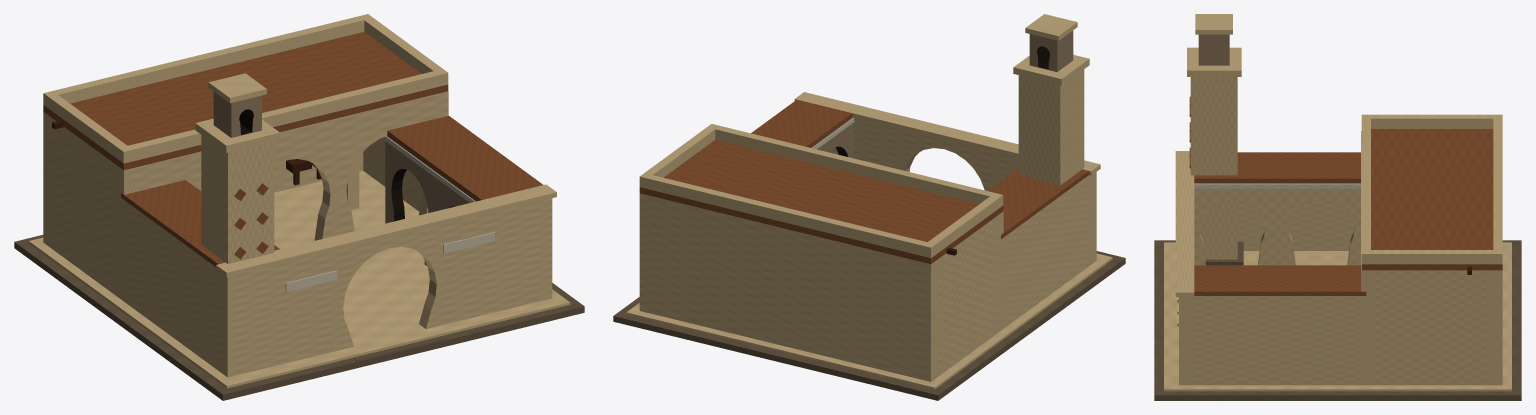
Rendered from Berber_Mosque_Age4.fbx.
3 renders of one model, left to right at view 1: azimuth 30°, elevation 25°; view 2: azimuth 150°, elevation 25°; view 3: azimuth 270°, elevation 25°, orthographic. The views are drawn at different scales.
Visible parts, largest first — view 1: entrance_wall, courtyard_floor, prayer_hall_roof, prayer_hall_horseshoe_arcade, outer_gallery_wall_-3.38, prayer_side_-3.38, square_minaret_shaft, foundation, gallery_roof_3.38, hall_end_parapet.001, entrance_cap, hall_end_parapet (+13 smaller); view 2: qibla_wall, prayer_hall_roof, outer_gallery_wall_-3.38, prayer_side_-3.38, square_minaret_shaft, foundation, entrance_wall, hall_end_parapet.001, courtyard_floor, hall_end_parapet, entrance_cap, gallery_roof_3.38 (+8 smaller); view 3: prayer_hall_roof, outer_gallery_wall_3.38, prayer_side_3.38, courtyard_floor, square_minaret_shaft, foundation, side_gallery_arcade_-3.38, gallery_roof_3.38, gallery_roof_-3.38, outer_gallery_wall_-3.38, entrance_cap, hall_side_parapet.001 (+11 smaller).
Boxes of the visible parts, <box> form: entrance_wall: <box>220,198,552,377</box>; courtyard_floor: <box>28,171,570,388</box>; prayer_hall_roof: <box>43,32,448,170</box>; prayer_hall_horseshoe_arcade: <box>117,91,448,301</box>; outer_gallery_wall_-3.38: <box>124,200,220,371</box>; prayer_side_-3.38: <box>50,116,116,295</box>; square_minaret_shaft: <box>201,135,274,263</box>; foundation: <box>14,235,584,400</box>; gallery_roof_3.38: <box>387,115,542,201</box>; hall_end_parapet.001: <box>53,16,364,103</box>; entrance_cap: <box>216,184,556,277</box>; hall_end_parapet: <box>128,71,438,161</box>; qibla_wall: <box>639,193,936,381</box>; prayer_hall_roof: <box>639,140,1003,264</box>; outer_gallery_wall_-3.38: <box>1003,175,1090,328</box>; prayer_side_-3.38: <box>937,216,997,377</box>; square_minaret_shaft: <box>1018,69,1084,185</box>; foundation: <box>613,251,1125,400</box>; entrance_wall: <box>829,118,1096,264</box>; hall_end_parapet.001: <box>648,175,927,255</box>; courtyard_floor: <box>626,253,1112,389</box>; hall_end_parapet: <box>715,126,994,204</box>; entrance_cap: <box>794,92,1100,175</box>; gallery_roof_3.38: <box>751,99,852,147</box>; prayer_hall_roof: <box>1361,129,1502,270</box>; outer_gallery_wall_3.38: <box>1191,296,1360,385</box>; prayer_side_3.38: <box>1373,270,1491,385</box>; courtyard_floor: <box>1164,242,1511,391</box>; square_minaret_shaft: <box>1190,77,1237,259</box>; foundation: <box>1154,240,1521,400</box>; side_gallery_arcade_-3.38: <box>1194,183,1360,265</box>; gallery_roof_3.38: <box>1194,265,1366,295</box>; gallery_roof_-3.38: <box>1194,152,1360,182</box>; outer_gallery_wall_-3.38: <box>1237,200,1353,250</box>; entrance_cap: <box>1175,151,1194,296</box>; hall_side_parapet.001: <box>1361,250,1502,264</box>.
Bounding box in the file's own units: 780 × 574 × 780.
6 materials, 6 textured.
